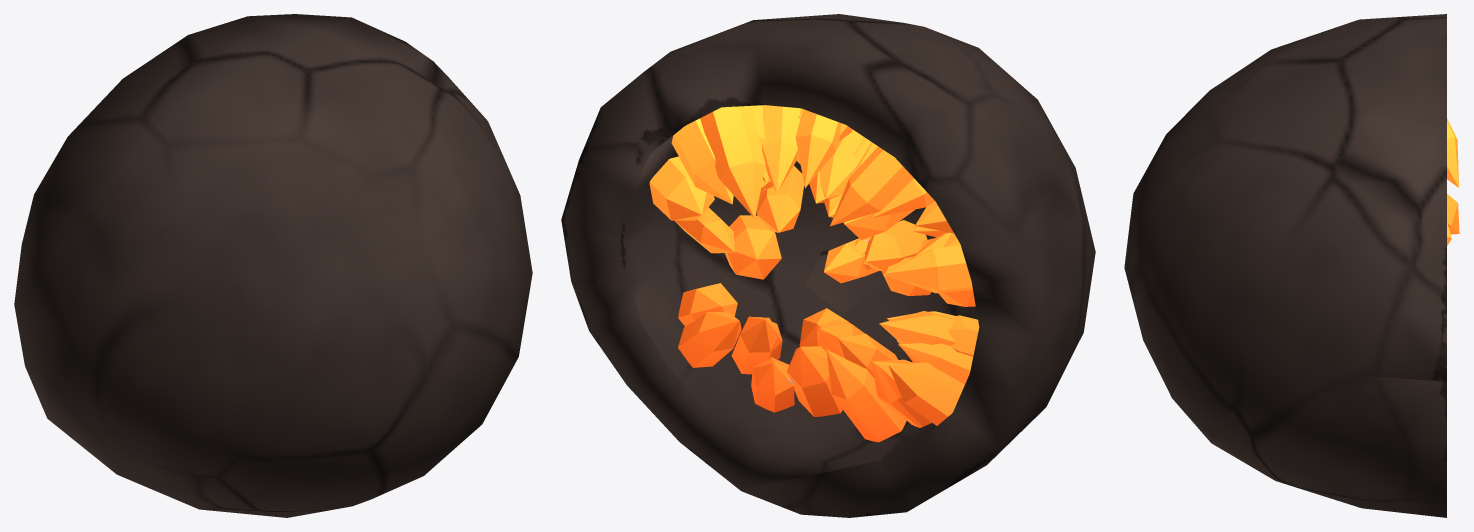
The model's file is geoda_dragon.fbx.
3 views of the same model, side by side, from view 1: azimuth 30°, elevation 25°; view 2: azimuth 150°, elevation 25°; view 3: azimuth 270°, elevation 25° (orthographic). The views are drawn at different scales.
Parts seen in each view (by area): view 1: geoda_dragon; view 2: geoda_dragon, geoda_dragon_cristal; view 3: geoda_dragon, geoda_dragon_cristal.
Boxes of the visible parts, box(x1,y1,x2,y2) form: geoda_dragon: box(14, 14, 532, 517); geoda_dragon: box(561, 14, 1095, 517); geoda_dragon_cristal: box(649, 105, 979, 442); geoda_dragon: box(1124, 14, 1446, 517); geoda_dragon_cristal: box(1447, 118, 1459, 245).
Size of the model in its own units: 3.43 by 3.24 by 2.16.
2 materials, 2 textured.
